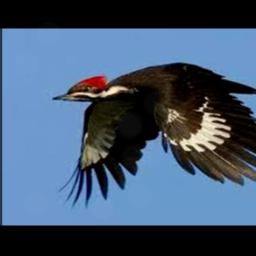Woodpecker: (52, 62, 256, 210)
